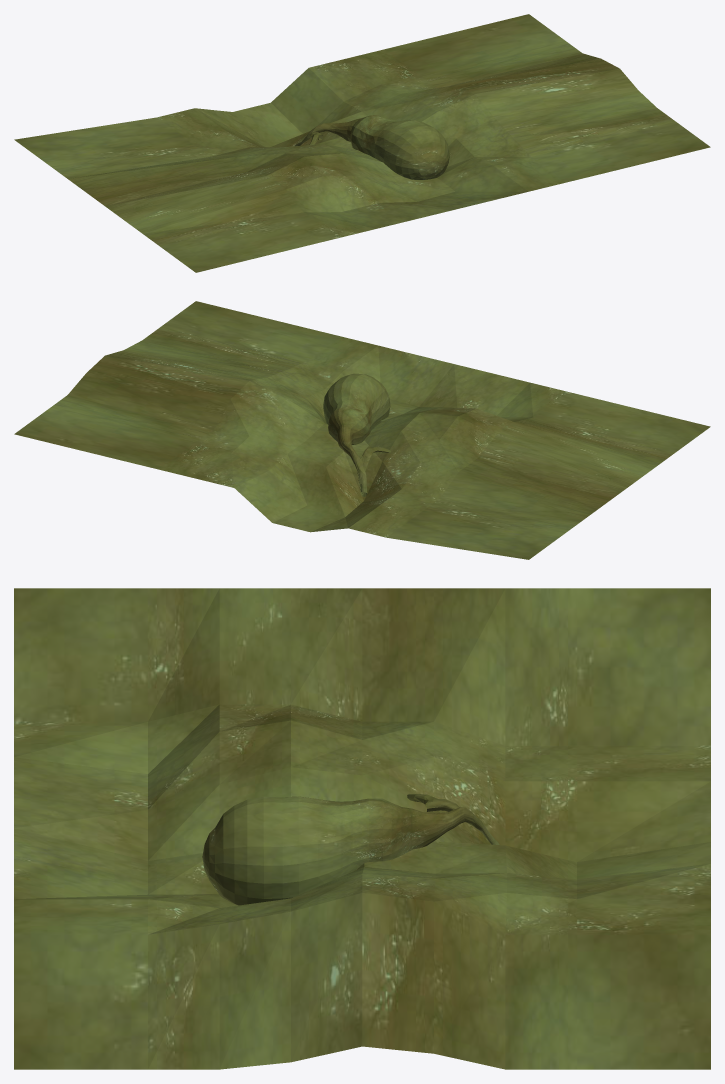
The model's file is gall_bladder_liver.obj.
3 views of the same model, one above another, from view 1: azimuth 30°, elevation 25°; view 2: azimuth 150°, elevation 25°; view 3: azimuth 270°, elevation 25° (orthographic). The views are drawn at different scales.
Parts seen in each view (by area): view 1: Plane001, newOFF; view 2: Plane001, newOFF; view 3: Plane001, newOFF.
Boxes of the visible parts, x1=… form: Plane001: x1=14, y1=14, x2=710, y2=272; newOFF: x1=295, y1=115, x2=449, y2=179; Plane001: x1=14, y1=301, x2=710, y2=559; newOFF: x1=323, y1=373, x2=390, y2=496; Plane001: x1=14, y1=588, x2=710, y2=1069; newOFF: x1=202, y1=794, x2=499, y2=905.
Bounding box in the file's own units: 6.86 × 0.8234 × 4.2.
